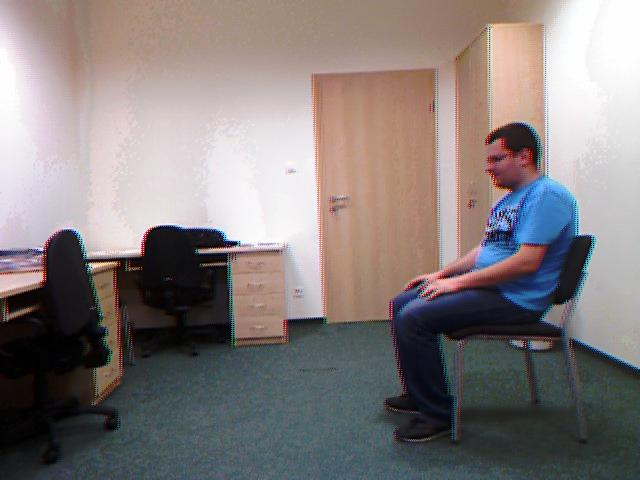sitting: (385, 124, 576, 443)
